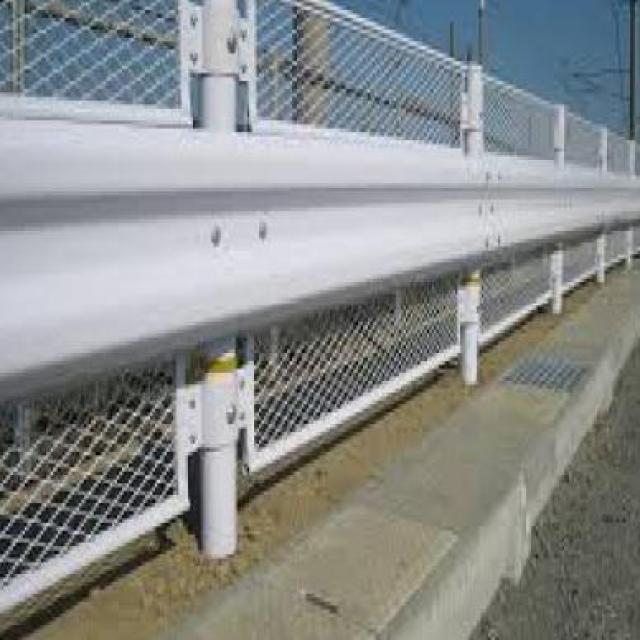Guard rail: (0, 96, 640, 514)
